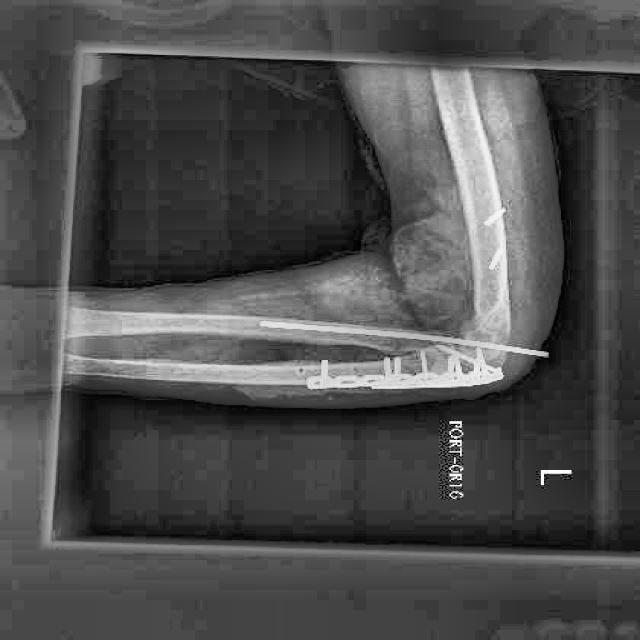elbow positive: (395, 342, 450, 385)
